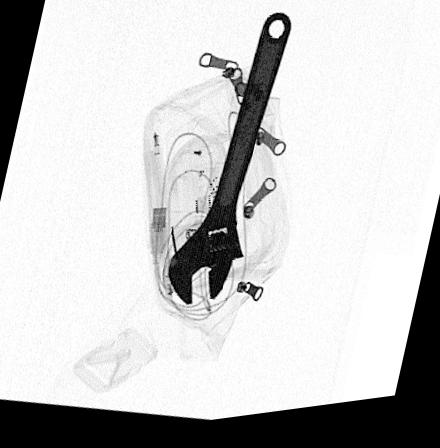Wrench: (168, 19, 291, 308)
